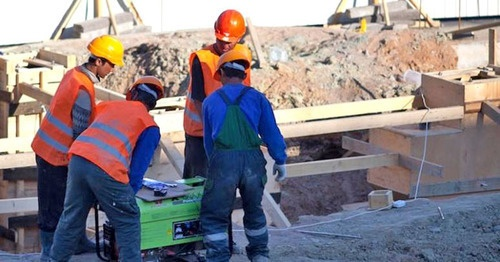yellow: (86, 35, 124, 80), (212, 6, 246, 52), (125, 74, 164, 110), (214, 50, 250, 86)
